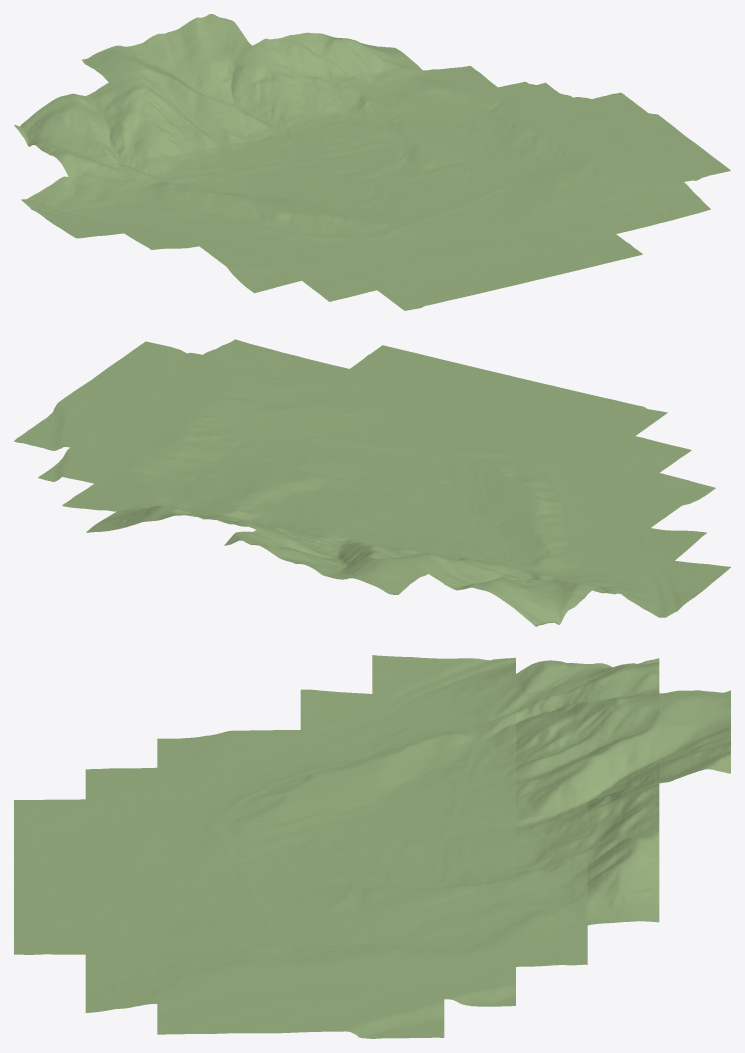
Rendered from terrain_lod1.glb.
3 renders of one model, top to bottom at view 1: azimuth 30°, elevation 25°; view 2: azimuth 150°, elevation 25°; view 3: azimuth 270°, elevation 25°, orthographic. The views are drawn at different scales.
Visible parts, largest first — view 1: t_6_9, t_7_9, t_6_10, t_3_8, t_5_8, t_2_9, t_8_9, t_5_10, t_7_8, t_4_8, t_6_8, t_4_9 (+75 smaller); view 2: t_9_4, t_2_9, t_10_4, t_10_6, t_10_5, t_8_3, t_12_6, t_9_1, t_12_5, t_8_1, t_7_1, t_4_6 (+71 smaller); view 3: t_9_9, t_5_9, t_5_5, t_4_9, t_4_8, t_10_8, t_12_6, t_2_5, t_11_7, t_4_6, t_1_6, t_6_4 (+75 smaller).
Part boxes in pixels (x1,y1,x2,y2): t_6_9: (205, 46, 279, 108); t_7_9: (252, 34, 326, 86); t_6_10: (177, 14, 251, 67); t_3_8: (89, 112, 163, 169); t_5_8: (185, 99, 259, 147); t_2_9: (14, 96, 88, 150); t_8_9: (300, 32, 374, 80); t_5_10: (130, 29, 204, 79); t_7_8: (280, 80, 354, 126); t_4_8: (137, 108, 211, 156); t_6_8: (238, 87, 306, 139); t_4_9: (109, 70, 183, 113); t_9_4: (251, 408, 340, 450); t_2_9: (485, 580, 575, 626); t_10_4: (194, 389, 282, 434); t_10_6: (128, 435, 217, 477); t_10_5: (161, 412, 250, 456); t_8_3: (341, 405, 430, 442); t_12_6: (14, 415, 103, 450); t_9_1: (350, 345, 438, 382); t_12_5: (47, 387, 136, 424); t_8_1: (407, 359, 495, 395); t_7_1: (464, 372, 552, 409); t_4_6: (470, 519, 559, 555); t_9_9: (587, 859, 659, 925); t_5_9: (587, 725, 659, 792); t_5_5: (300, 780, 372, 824); t_4_9: (587, 693, 659, 753); t_4_8: (516, 706, 587, 771); t_10_8: (516, 924, 587, 966); t_12_6: (372, 998, 444, 1038); t_2_5: (300, 689, 372, 730); t_11_7: (444, 966, 515, 1006); t_4_6: (372, 745, 444, 791); t_1_6: (372, 655, 444, 696); t_6_4: (229, 818, 300, 858).
Bounding box in the file's own units: 3072 × 399 × 2560.
